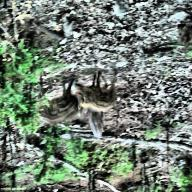boar: (39, 86, 84, 138), (76, 78, 115, 117), (84, 110, 102, 142)
